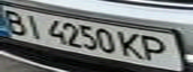0: (93, 26, 118, 56)
2: (60, 20, 81, 48)
4: (42, 17, 66, 45)
5: (78, 24, 100, 52)
B: (0, 6, 30, 35)
I: (21, 11, 48, 39)
K: (115, 29, 148, 61)
P: (139, 33, 178, 64)
